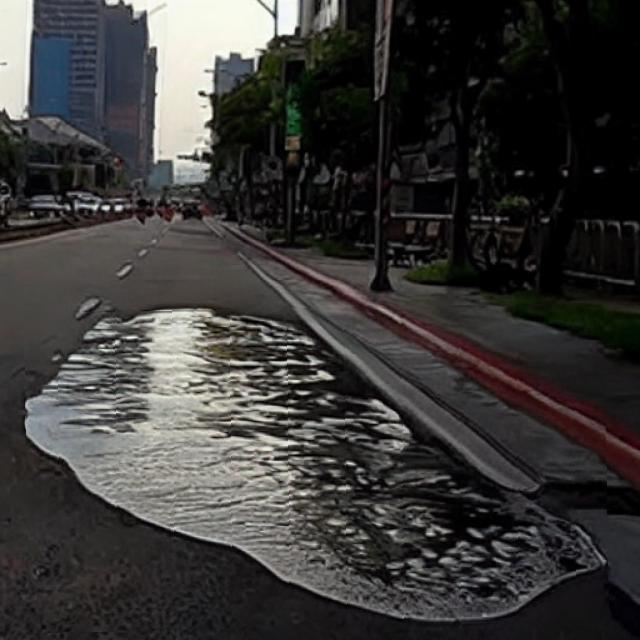puddle: (27, 307, 609, 631)
